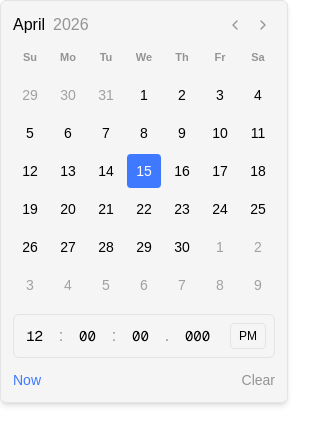
Test: components/common/datetime-picker/calendar › clicking a leading-out-of-month day jumps the view to that month
Click the 1st button "29" at coordinates (30, 94), box [13,78,47,112]
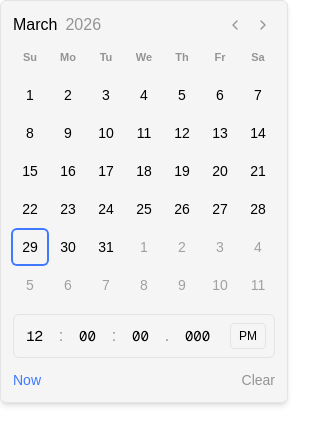
Now the text "March" is shown, box [13,13,58,37]
